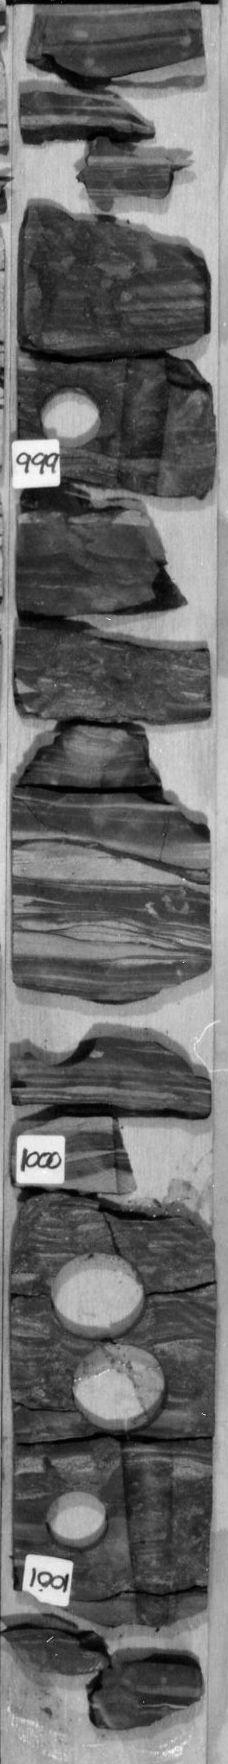hplug: (29, 377, 105, 454), (39, 1490, 118, 1552), (23, 1030, 103, 1072)
scal: (43, 1246, 152, 1343), (69, 1343, 174, 1434)
vplug: (114, 1437, 176, 1625), (112, 354, 172, 494), (105, 1106, 170, 1223)
